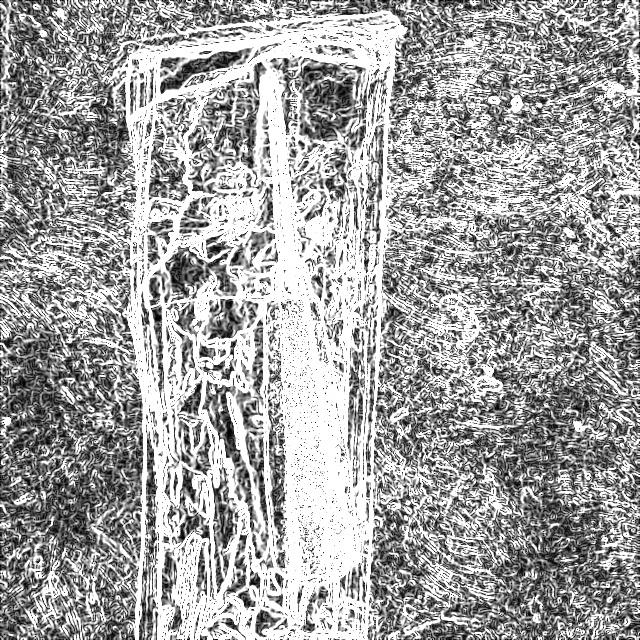botador: (256, 66, 367, 586)
